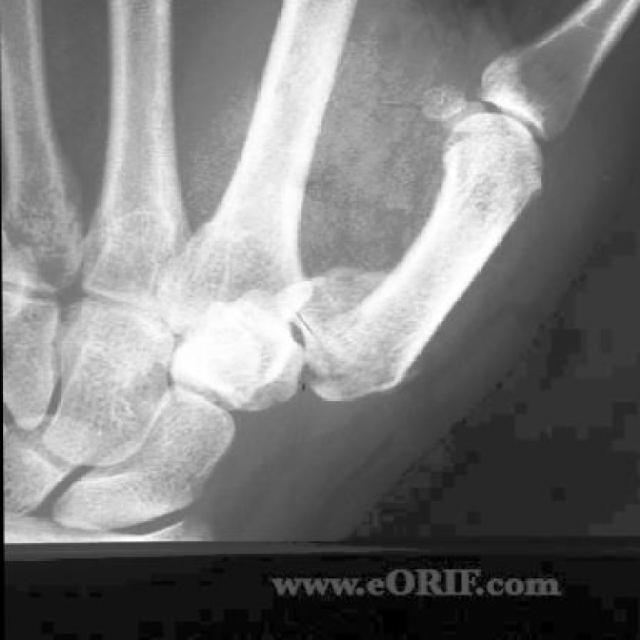Fracture: (279, 251, 431, 407)
